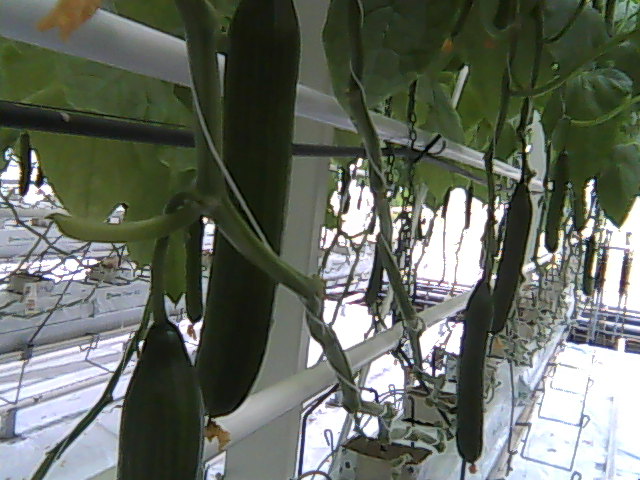concombre: (188, 1, 304, 448), (117, 309, 210, 480), (454, 267, 496, 475)
